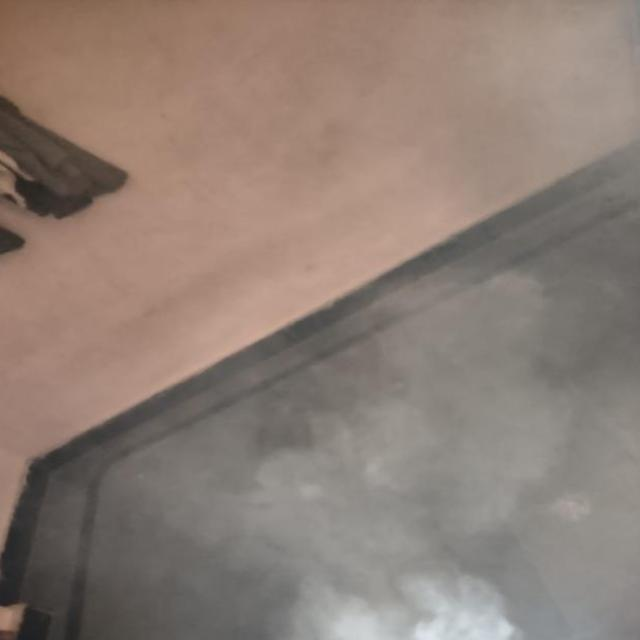fire: (110, 287, 584, 640)
